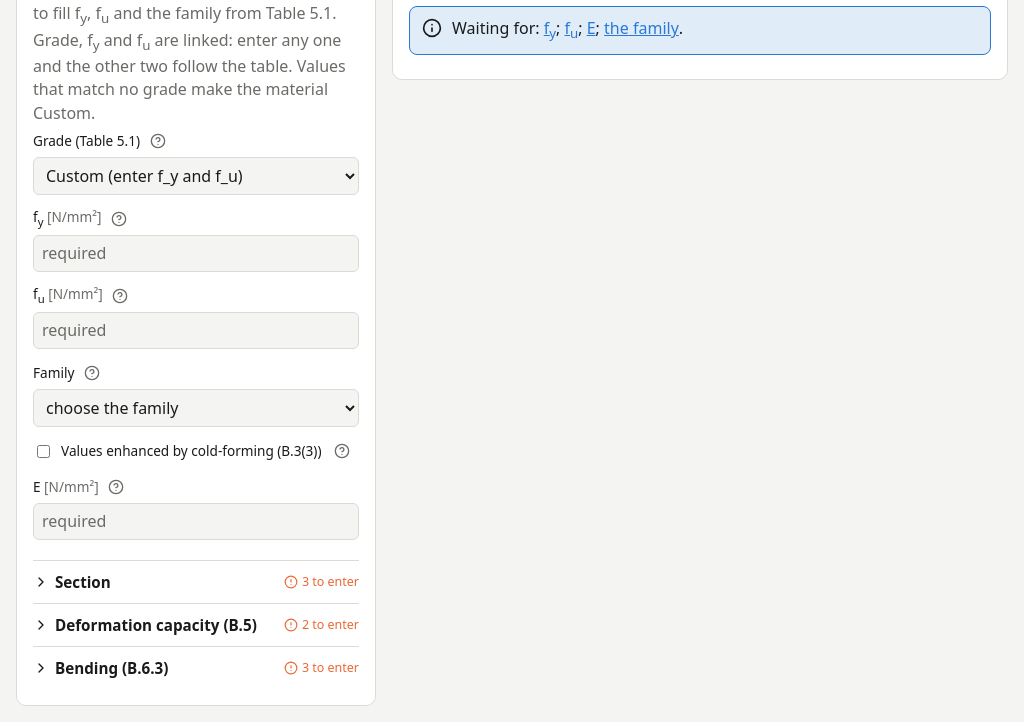
the Bending tab › the Bending group starts empty and says what each field is
This screenshot has width=1024, height=722.
(page scrolled)
Click the button "Bending (B.6.3) 3 to enter" at [112, 668], box 33,647 -> 359,689
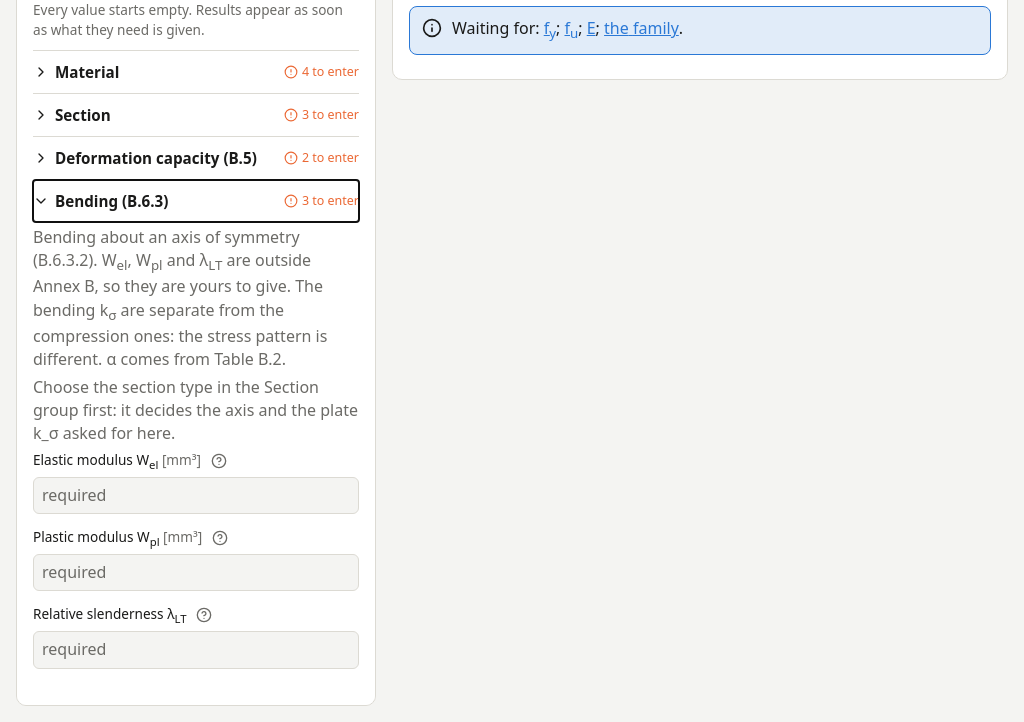
Result: the text "Choose the section type in the Section group first" is shown at 33,376 -> 358,444
Result: the number field labelled "Elastic modulus Wel [mm³]" is not empty at 33,477 -> 359,514
Result: the number field labelled "Plastic modulus Wpl [mm³]" is not empty at 33,554 -> 359,592
